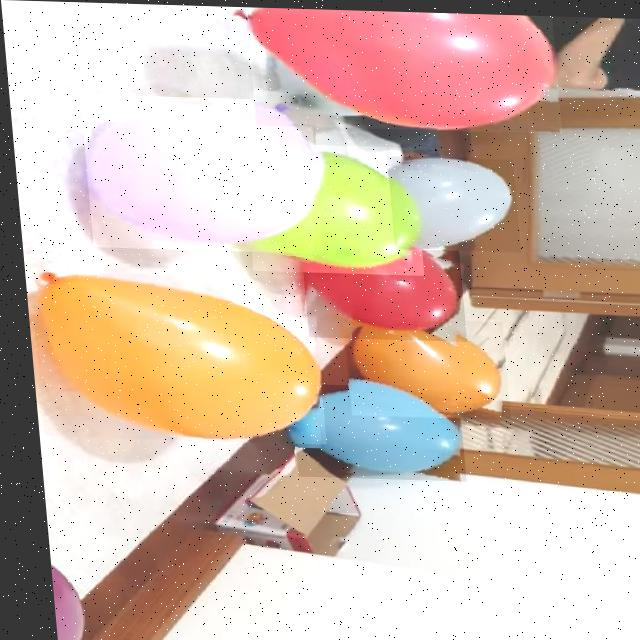balloon: (24, 271, 317, 443), (245, 6, 559, 131), (77, 94, 318, 252), (239, 142, 418, 274), (295, 235, 460, 339), (282, 382, 456, 479), (337, 315, 502, 417), (383, 154, 516, 250)
